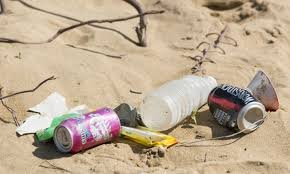metal: (47, 106, 125, 153), (203, 81, 262, 132), (240, 68, 290, 112)
paper: (17, 87, 92, 146)
plastic: (132, 59, 215, 129), (114, 118, 178, 147)
